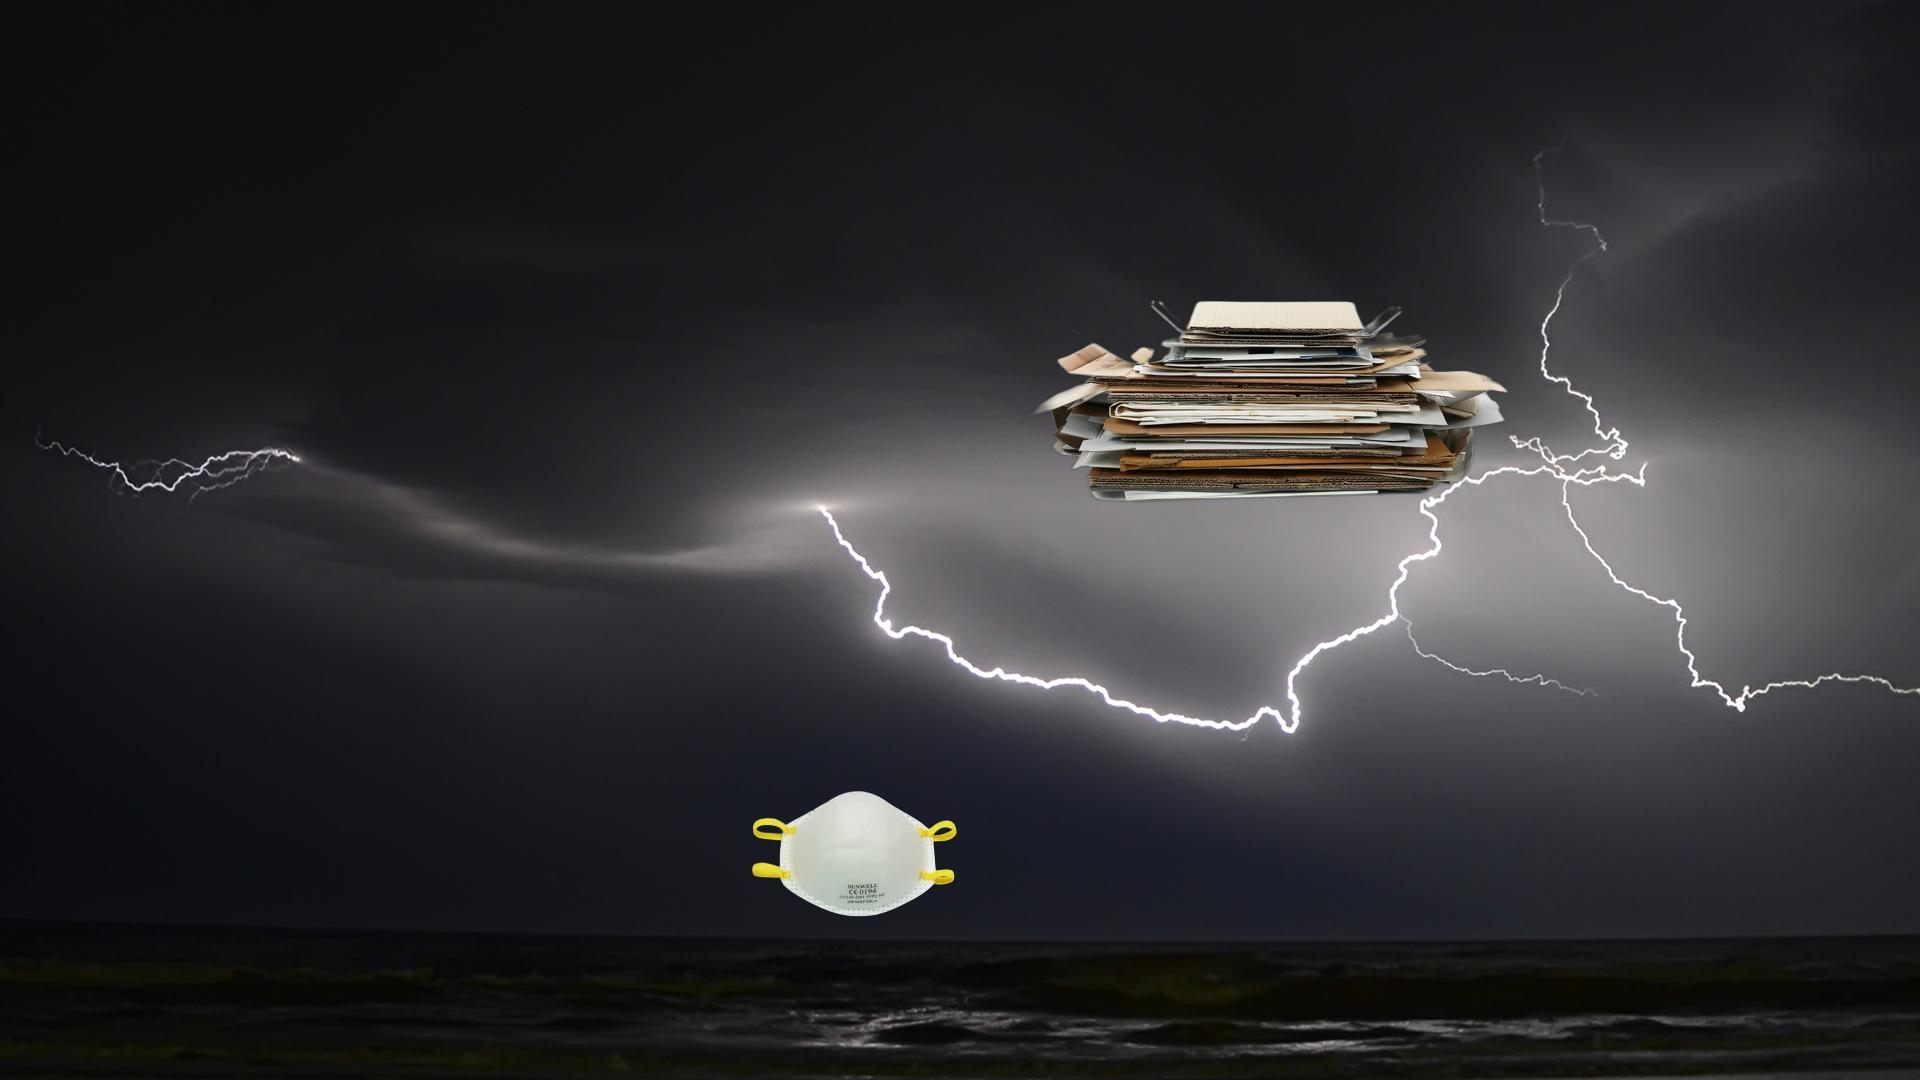metal-cans: (80, 1040, 593, 1080)
trash: (749, 789, 960, 920)
trashbox-cardboard: (1014, 297, 1516, 504)
